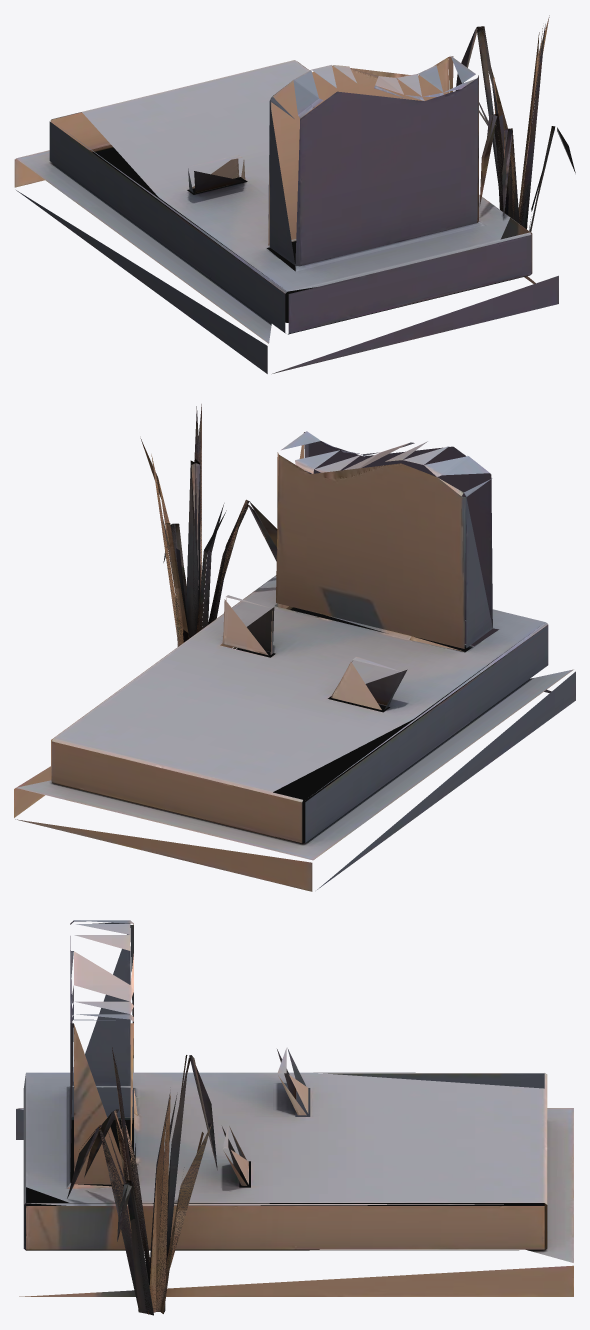
3 renders of one model, top to bottom at view 1: azimuth 30°, elevation 25°; view 2: azimuth 150°, elevation 25°; view 3: azimuth 270°, elevation 25°, orthographic. The views are drawn at different scales.
Parts seen in each view (by area): view 1: 01_LOD2; view 2: 01_LOD2; view 3: 01_LOD2.
Boxes of the visible parts, box(x1,y1,x2,y2) form: 01_LOD2: box(14, 15, 575, 373); 01_LOD2: box(14, 404, 575, 891); 01_LOD2: box(16, 920, 573, 1315).
Size of the model in its own units: 1.72 by 1.14 by 2.15.
1 material, 1 textured.
